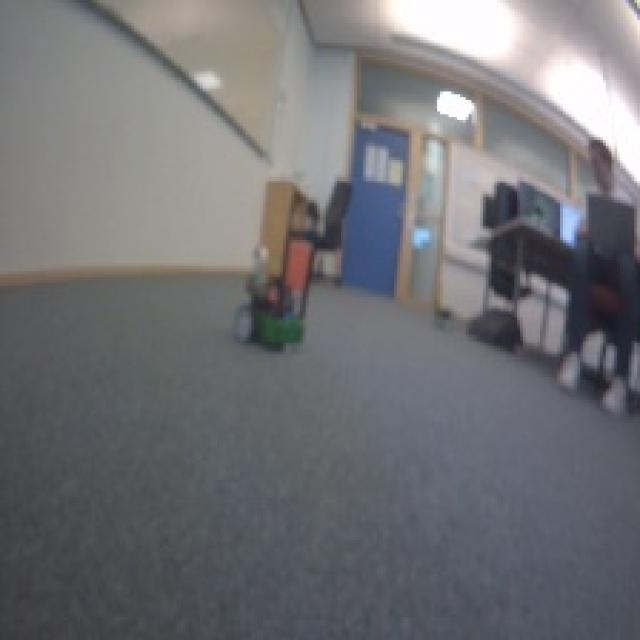robot: (232, 266, 310, 353), (429, 301, 457, 333)
